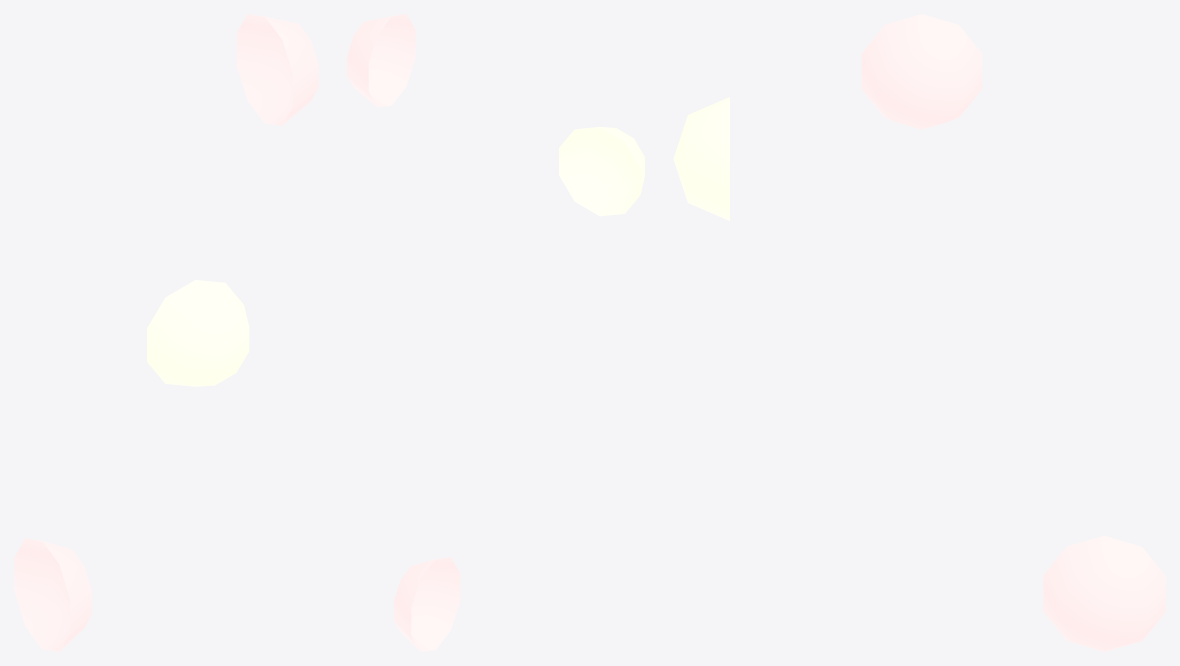
3 renders of one model, left to right at view 1: azimuth 30°, elevation 25°; view 2: azimuth 150°, elevation 25°; view 3: azimuth 270°, elevation 25°, orthographic. The views are drawn at different scales.
Visible parts, largest first — view 1: light.005; view 2: light.005; view 3: light.005.
Boxes of the visible parts, left/top/right/bottom form: light.005: left=14, top=14, right=318, bottom=651; light.005: left=347, top=14, right=644, bottom=651; light.005: left=673, top=14, right=1165, bottom=651.
Bounding box in the file's own units: 0.2 × 0.5 × 0.3142.
